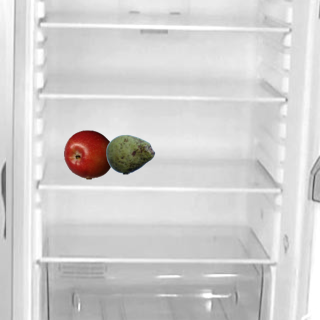Apple Braeburn: (63, 129, 113, 179)
Pear Stone: (105, 129, 155, 179)
